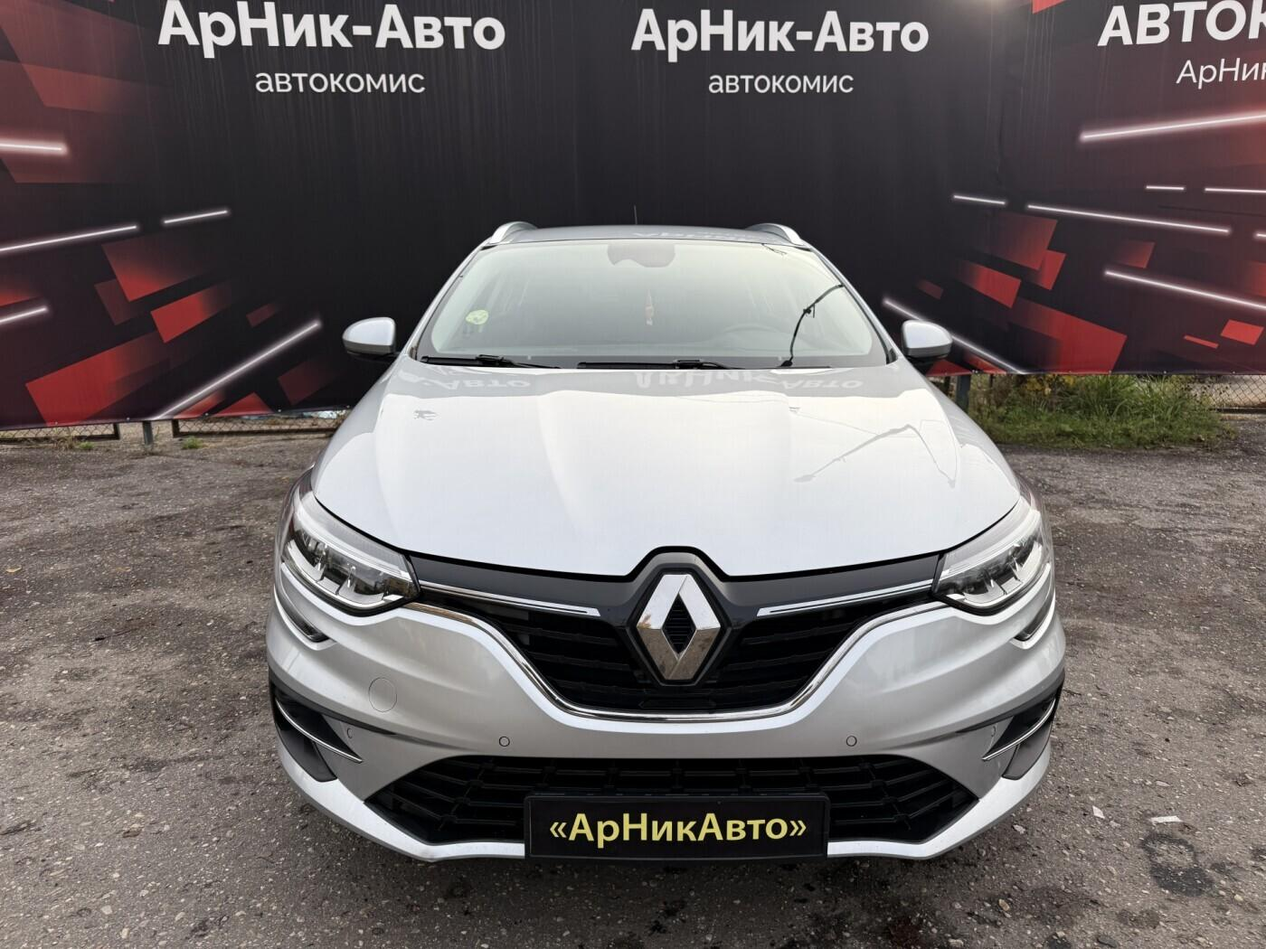Megane_2020: (253, 219, 1075, 886)
